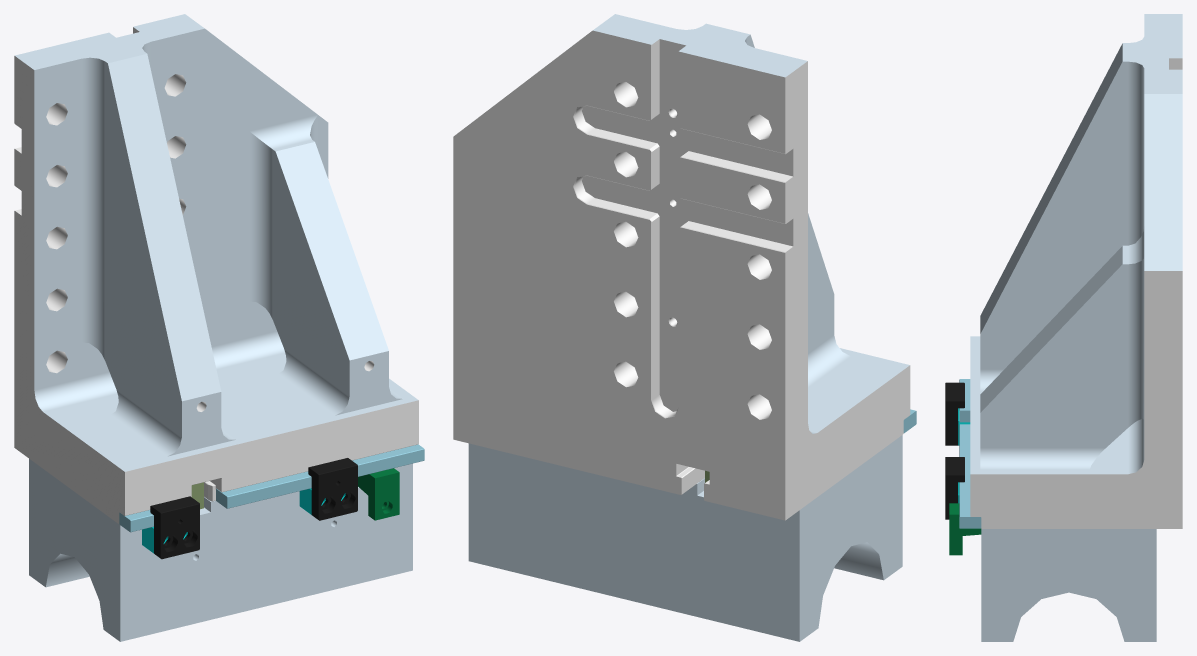
The model's file is 17-200-360-00011_mors.obj.
3 renders of one model, left to right at view 1: azimuth 30°, elevation 25°; view 2: azimuth 150°, elevation 25°; view 3: azimuth 270°, elevation 25°, orthographic. The views are drawn at different scales.
Visible parts, largest first — view 1: 17-200-360-00011; view 2: 17-200-360-00011; view 3: 17-200-360-00011.
Part boxes in pixels (x1,y1,x2,y2): 17-200-360-00011: [14, 14, 424, 641]; 17-200-360-00011: [453, 14, 916, 641]; 17-200-360-00011: [945, 14, 1182, 641].
Bounding box in the file's own units: 298 × 494 × 217.
